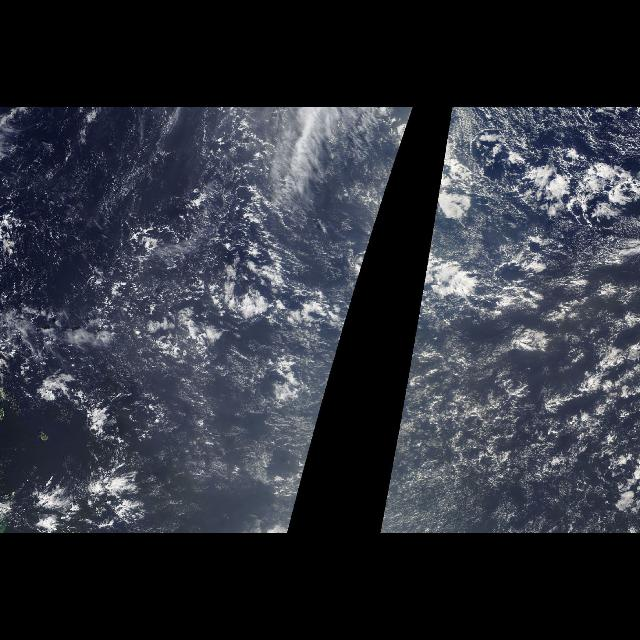Gravel: (409, 302, 637, 528)
Sugar: (1, 110, 200, 308), (380, 364, 576, 532), (192, 364, 334, 532)
